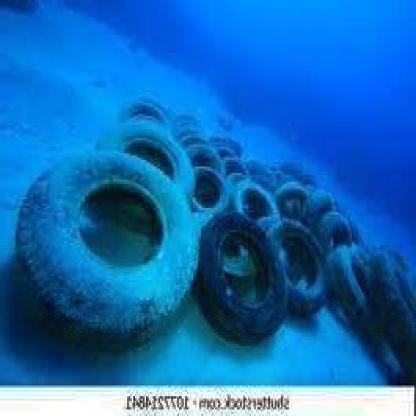tire: (14, 149, 198, 346), (198, 199, 290, 346), (99, 112, 195, 199), (364, 241, 416, 381), (258, 216, 324, 307), (318, 239, 374, 339), (219, 140, 274, 210), (270, 175, 342, 228), (187, 127, 224, 208)
